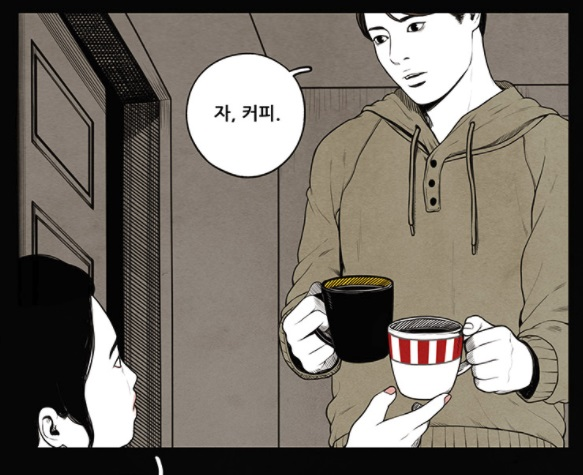coffee: (315, 271, 401, 364), (385, 316, 474, 400)
cup: (384, 312, 479, 402), (312, 272, 397, 366)
